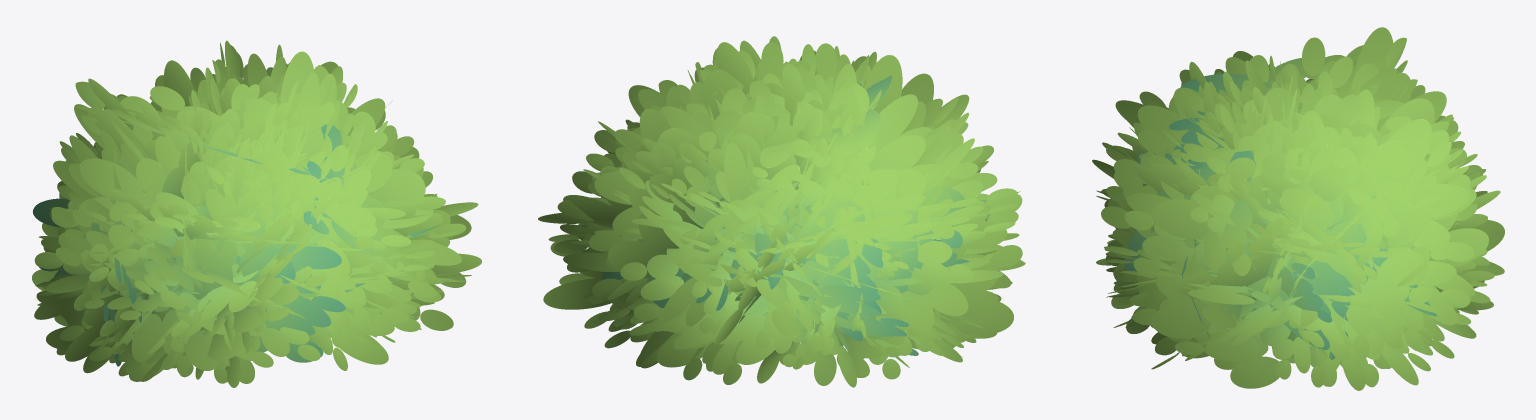
Rendered from bush_LODs.fbx.
The picture shows the model from 3 angles, left to right: view 1: azimuth 30°, elevation 25°; view 2: azimuth 150°, elevation 25°; view 3: azimuth 270°, elevation 25°; orthographic projection. The views are drawn at different scales.
Parts seen in each view (by area): view 1: bush_LOD0; view 2: bush_LOD0; view 3: bush_LOD0.
Boxes of the visible parts, x1=… form: bush_LOD0: x1=32, y1=40, x2=481, y2=387; bush_LOD0: x1=538, y1=36, x2=1025, y2=387; bush_LOD0: x1=1092, y1=27, x2=1504, y2=390.
Size of what is drawn, in the model's own units: 120 by 68.25 by 104.
1 material, 1 textured.
